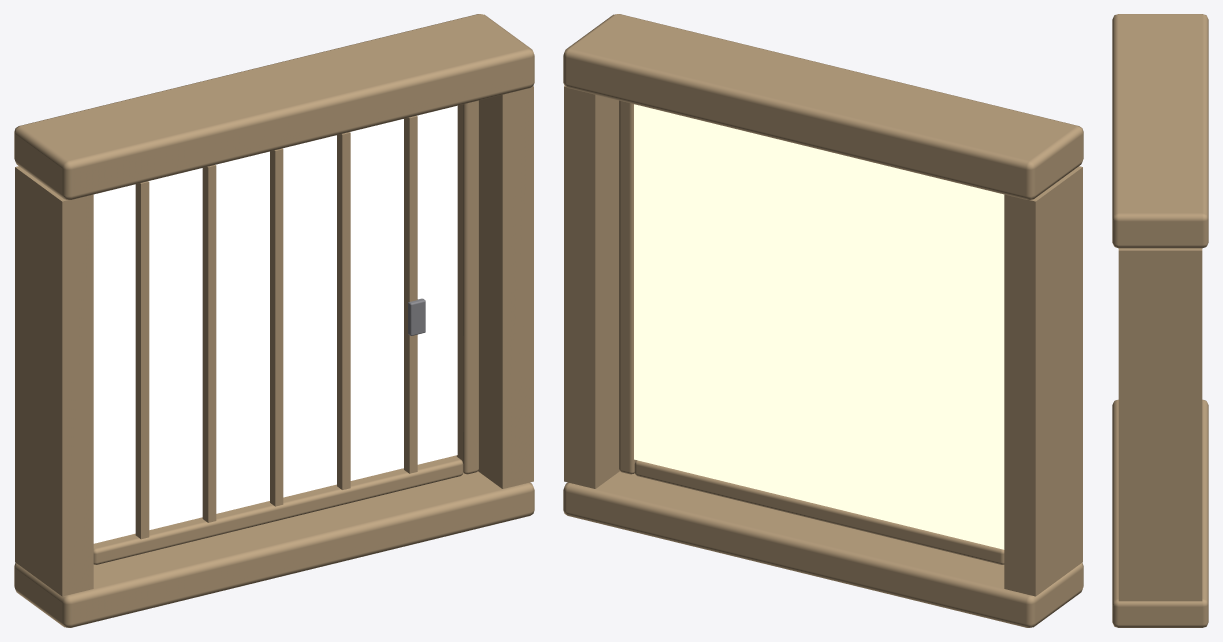
The model's file is korean-hanok-village-and-street-hanji-lattice-window-ff57a158__38046.glb.
3 views of the same model, side by side, from view 1: azimuth 30°, elevation 25°; view 2: azimuth 150°, elevation 25°; view 3: azimuth 270°, elevation 25° (orthographic). The views are drawn at different scales.
Parts seen in each view (by area): view 1: hanji-lattice-window; view 2: hanji-lattice-window; view 3: hanji-lattice-window.
Boxes of the visible parts, bbox=[...] form: hanji-lattice-window: bbox=[14, 14, 534, 627]; hanji-lattice-window: bbox=[563, 14, 1083, 627]; hanji-lattice-window: bbox=[1112, 14, 1208, 627].
Size of the model in its own units: 1.5 by 1.42 by 0.2999.
